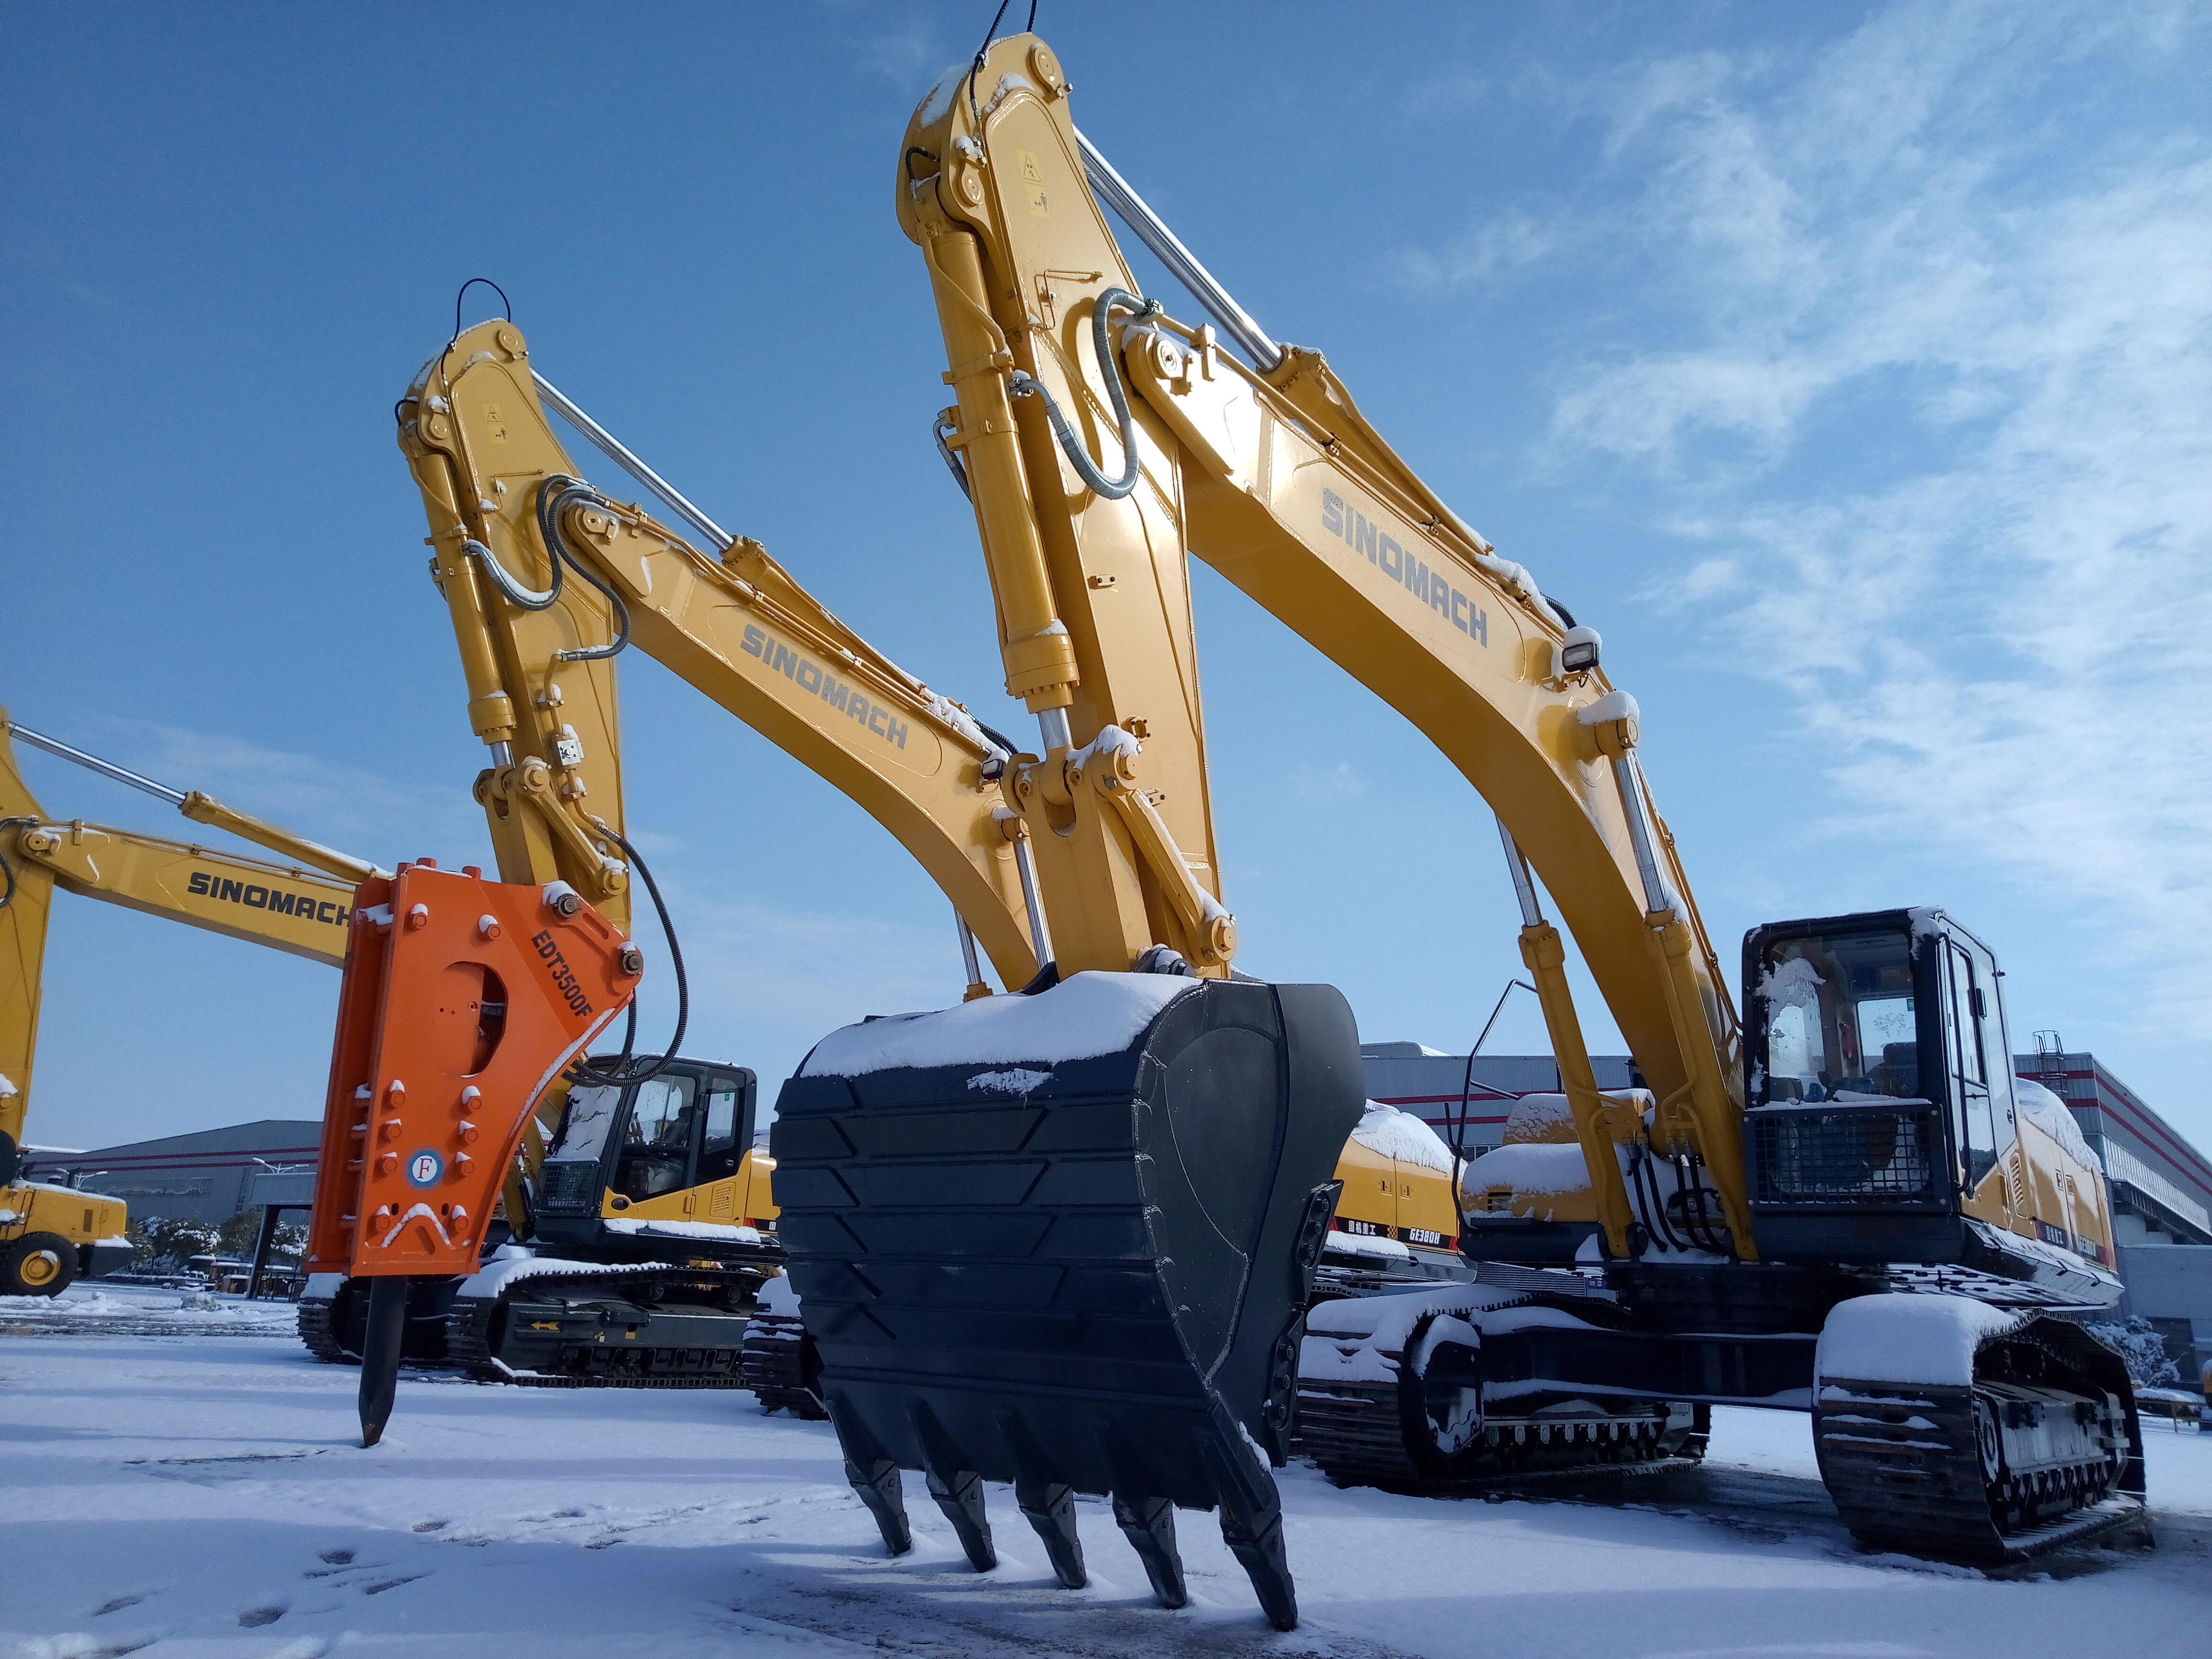excavator: (782, 24, 2212, 1652)
